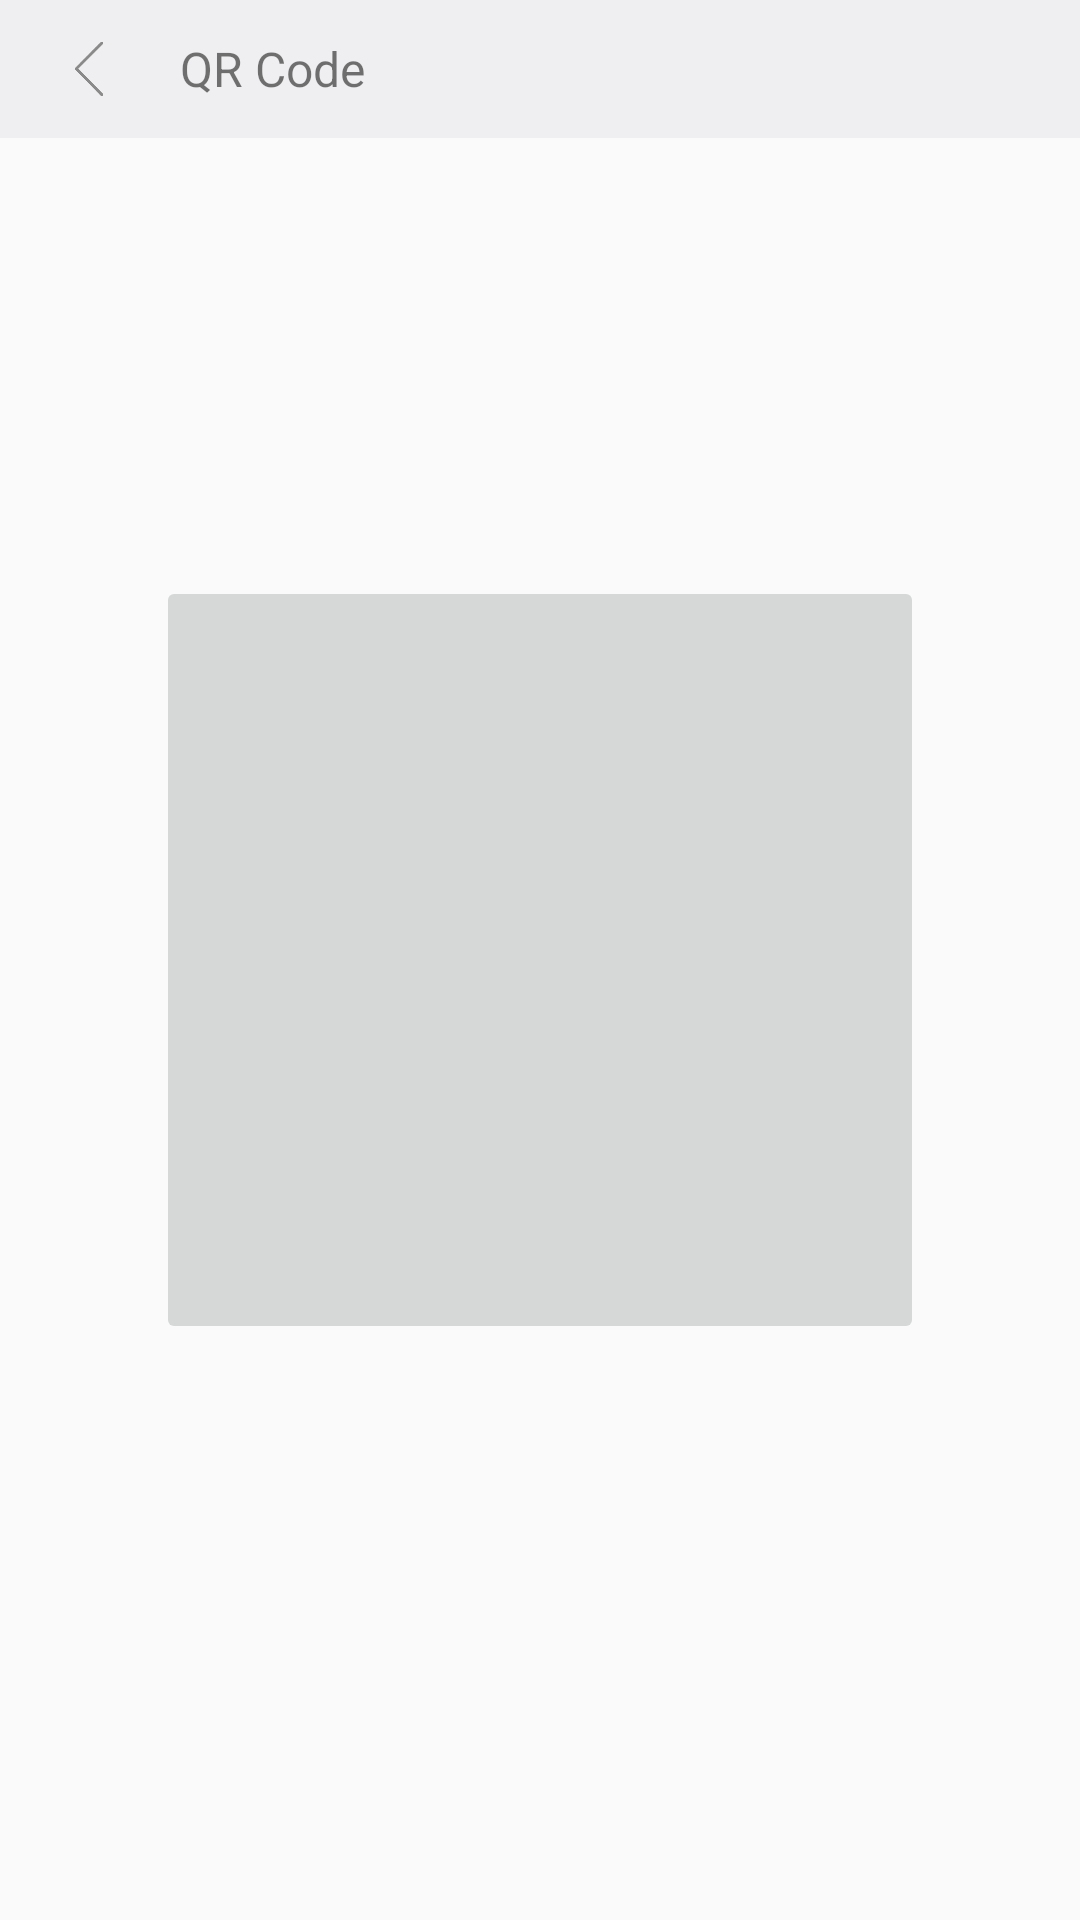

Icons on this 1080x1920 Android screen, each with its box as {"left": x1, "top": y1, "right": x2, "bottom": y2}:
pre status: {"left": 75, "top": 42, "right": 103, "bottom": 96}
